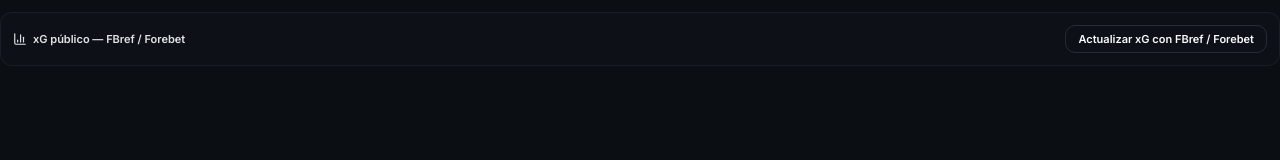
Test case: PublicXGPanel — fetch trigger › surfaces TIMEOUT message returned by the backend
Click the button with test id "public-xg-btn-mt_001" at {"x": 1166, "y": 39}, box [1066, 25, 1267, 53]
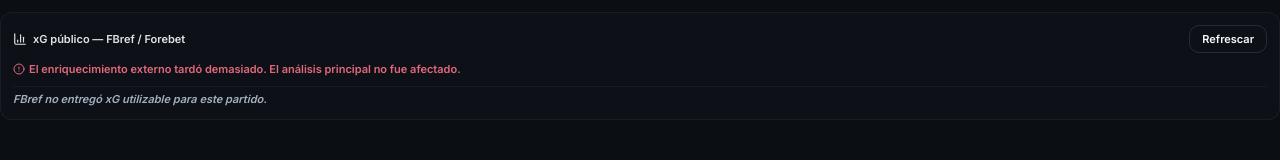
Check: the element with test id "public-xg-error-mt_001" shows "no fue afectado", box [29, 62, 461, 76]
